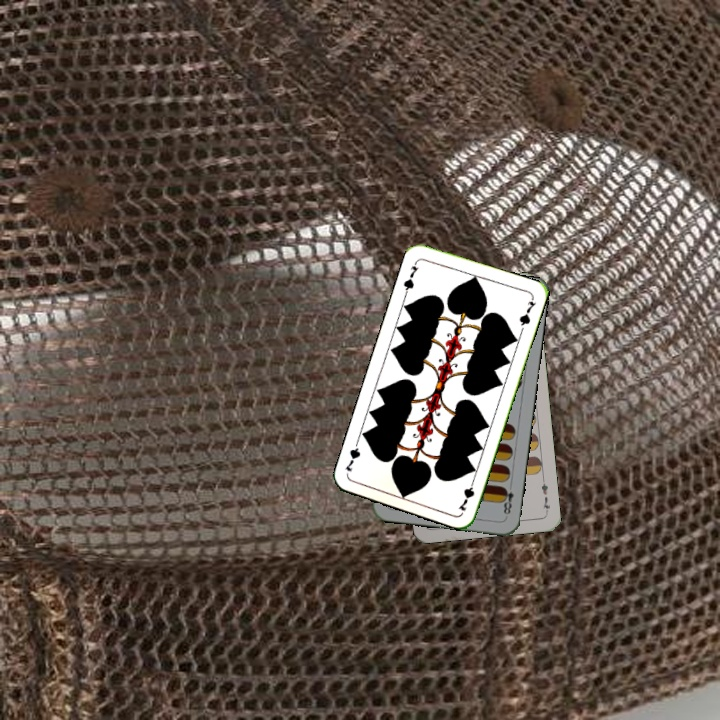E7: (537, 475, 553, 515)
E8: (498, 479, 516, 520)
G7: (454, 474, 478, 514), (399, 257, 421, 297)
